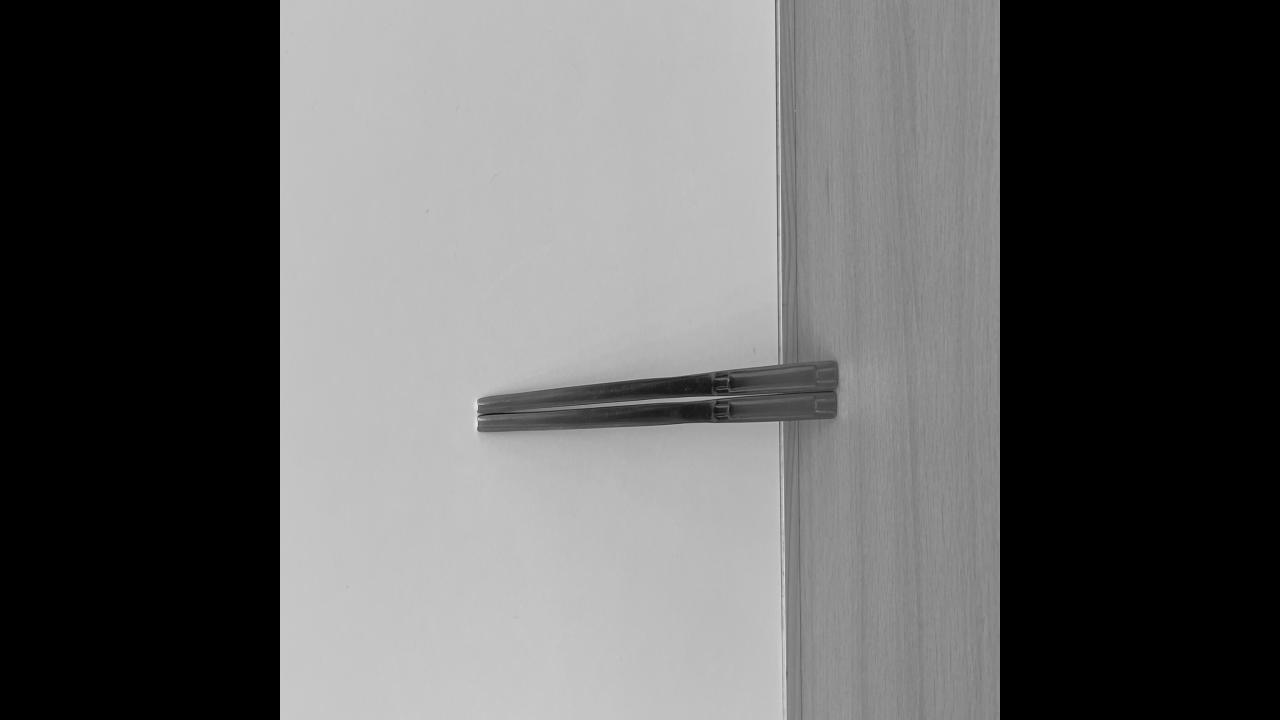chopstick: (476, 350, 840, 434)
